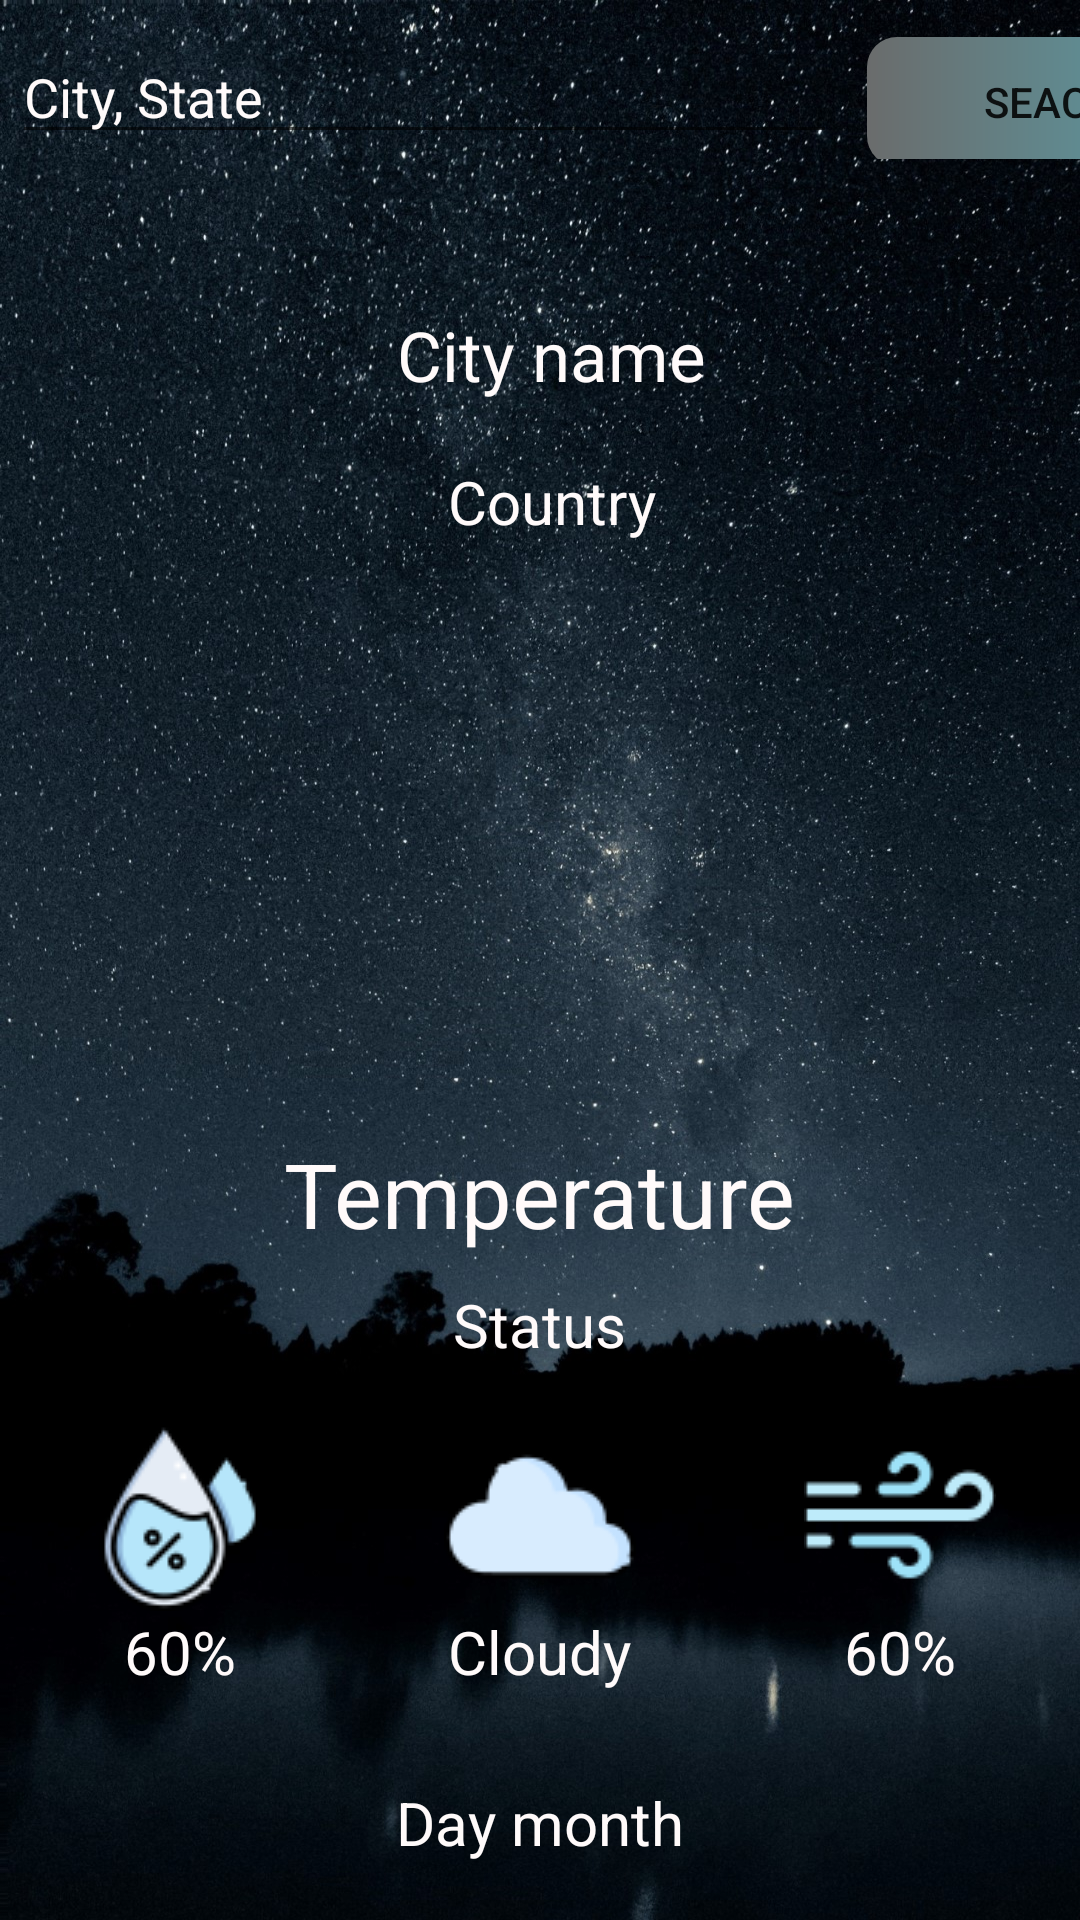

Named icons in this screenshot (1080 × 1920) and their bounding boxes, (x1, y1, x2, y2):
humidity: (104, 1428, 256, 1607)
wind: (804, 1451, 996, 1611)
